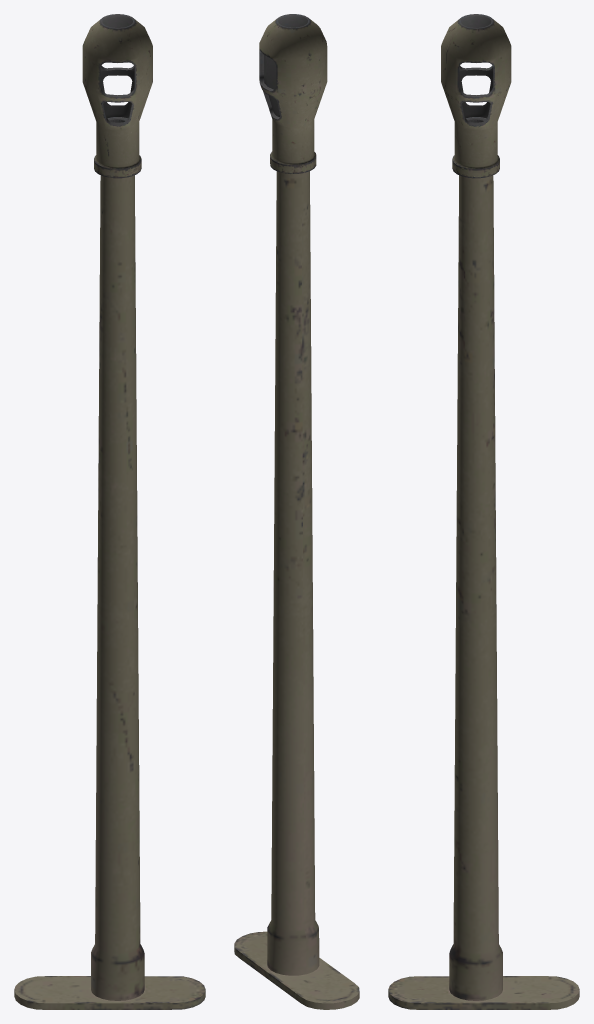
File: Gun_01.glb
3 views of the same model, side by side, from view 1: azimuth 90°, elevation 25°; view 2: azimuth 210°, elevation 25°; view 3: azimuth 270°, elevation 25° (orthographic). The views are drawn at different scales.
Parts seen in each view (by area): view 1: set_0_group_0; view 2: set_0_group_0; view 3: set_0_group_0.
Part boxes in pixels (x1=…): set_0_group_0: x1=14, y1=14, x2=205, y2=1009; set_0_group_0: x1=234, y1=14, x2=359, y2=1009; set_0_group_0: x1=388, y1=14, x2=579, y2=1009.
Bounding box in the file's own units: 0.2397 × 3.68 × 0.6549.
Materials: 1 (1 with a texture image).
